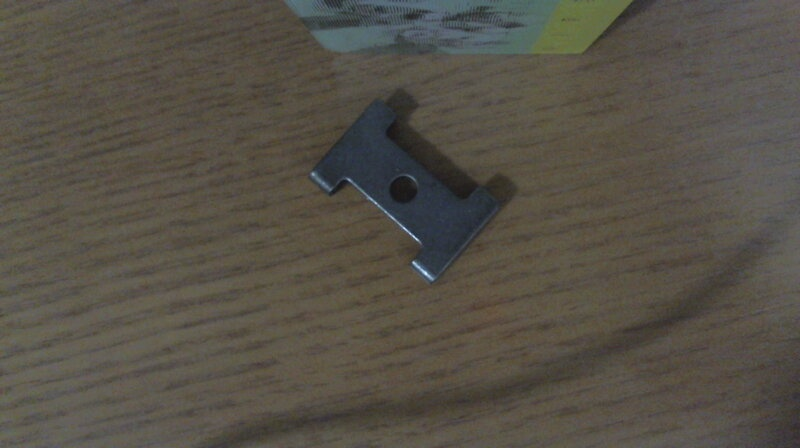O002: (305, 91, 507, 287)
